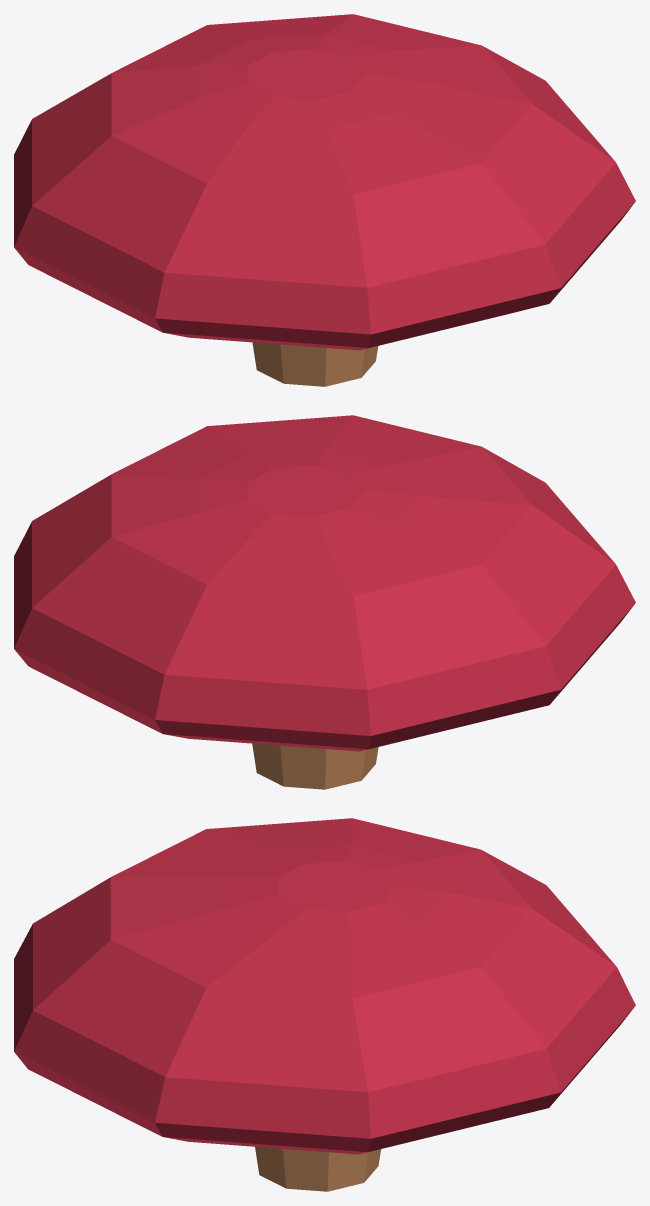
The model's file is mushroom.fbx.
The picture shows the model from 3 angles, top to bottom: view 1: azimuth 30°, elevation 25°; view 2: azimuth 150°, elevation 25°; view 3: azimuth 270°, elevation 25°; orthographic projection.
Visible parts, largest first — view 1: Circle.001; view 2: Circle.001; view 3: Circle.001.
Boxes of the visible parts, <box> form: Circle.001: <box>14,14,635,386</box>; Circle.001: <box>14,415,635,789</box>; Circle.001: <box>14,818,635,1191</box>.
Size of the model in its own units: 878 by 430 by 865.
